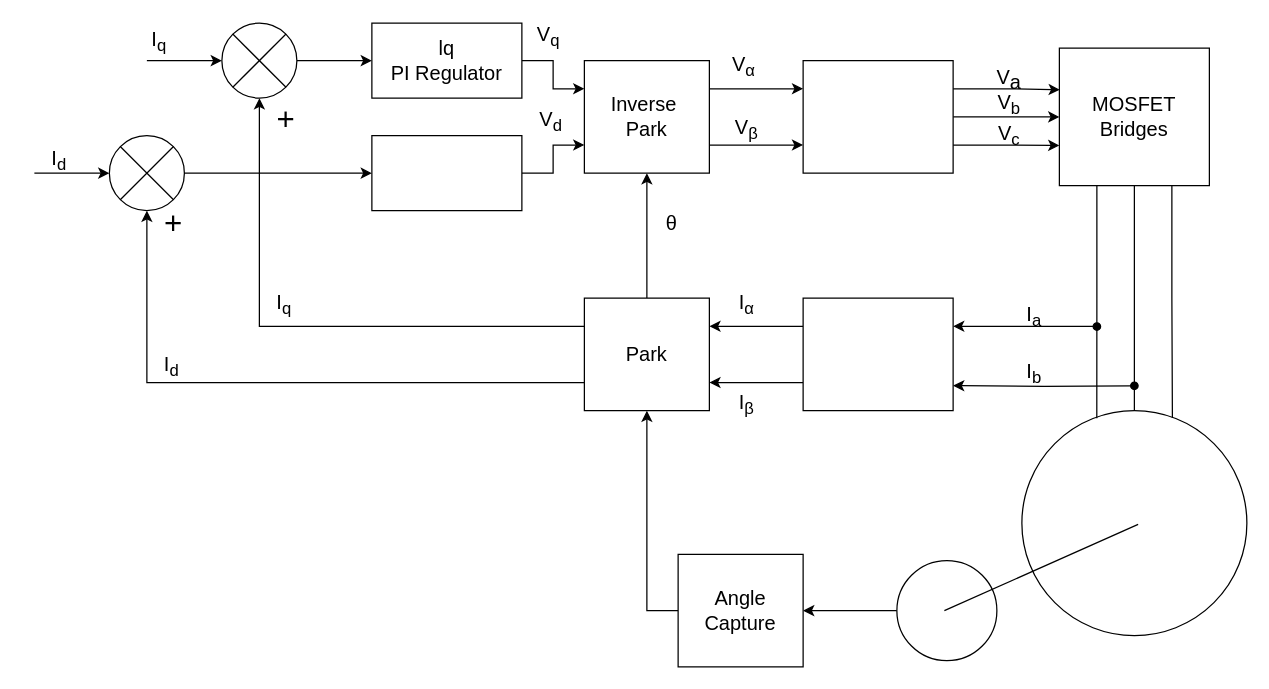
Image size: 1269x689. Some labels were removed from this diagram. The centre of each missing label's shape, as x and y in pixels:
"Clarke" goes at (877,354).
"ld РI Regulator" goes at (446,172).
"SVPWM" goes at (877,116).
